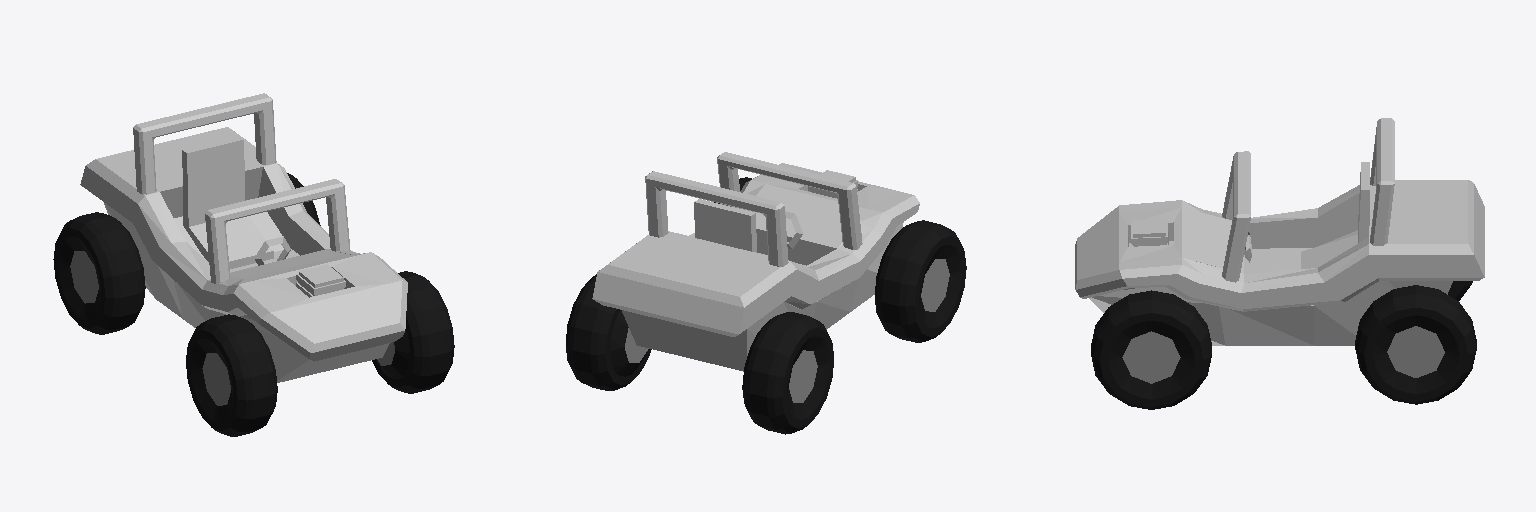
3 views of the same model, side by side, from view 1: azimuth 30°, elevation 25°; view 2: azimuth 150°, elevation 25°; view 3: azimuth 270°, elevation 25° (orthographic).
Visible parts, largest first — view 1: TopShell_Material.003, Tires_Material.002, Frames_Material.016, Seat_Material.004, Base_Material.001, EngineThing_Material.013; view 2: TopShell_Material.003, Tires_Material.002, Frames_Material.016, Base_Material.001, Seat_Material.004; view 3: TopShell_Material.003, Tires_Material.002, Base_Material.001, Frames_Material.016, Seat_Material.004, EngineThing_Material.013.
Boxes of the visible parts, x1=… form: TopShell_Material.003: x1=80, y1=127, x2=407, y2=361; Tires_Material.002: x1=53, y1=173, x2=454, y2=436; Frames_Material.016: x1=133, y1=93, x2=350, y2=283; Seat_Material.004: x1=182, y1=136, x2=273, y2=268; Base_Material.001: x1=104, y1=203, x2=389, y2=382; EngineThing_Material.013: x1=296, y1=264, x2=345, y2=297; TopShell_Material.003: x1=592, y1=163, x2=919, y2=336; Tires_Material.002: x1=566, y1=177, x2=966, y2=434; Frames_Material.016: x1=645, y1=152, x2=862, y2=266; Base_Material.001: x1=622, y1=222, x2=903, y2=371; Seat_Material.004: x1=694, y1=199, x2=756, y2=252; TopShell_Material.003: x1=1075, y1=180, x2=1484, y2=311; Tires_Material.002: x1=1091, y1=281, x2=1476, y2=409; Base_Material.001: x1=1089, y1=230, x2=1452, y2=345; Frames_Material.016: x1=1222, y1=118, x2=1394, y2=282; Seat_Material.004: x1=1301, y1=162, x2=1369, y2=268; EngineThing_Material.013: x1=1131, y1=219, x2=1168, y2=246.
Bounding box in the file's own units: 1.97 × 1.84 × 3.22.
7 materials, 1 textured.